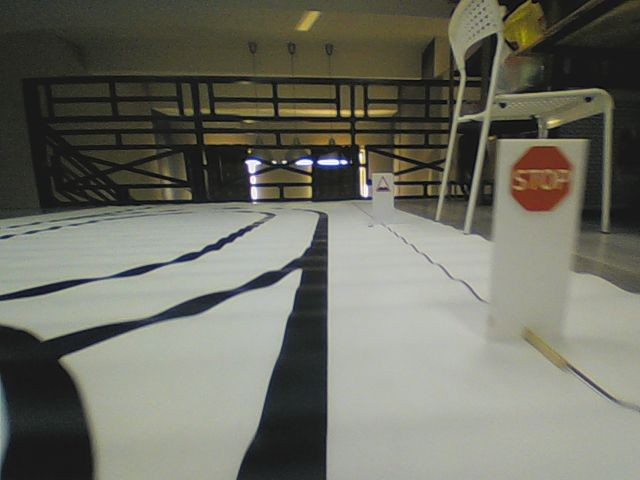Nerov: (375, 175, 391, 193)
Stop: (510, 144, 573, 213)
